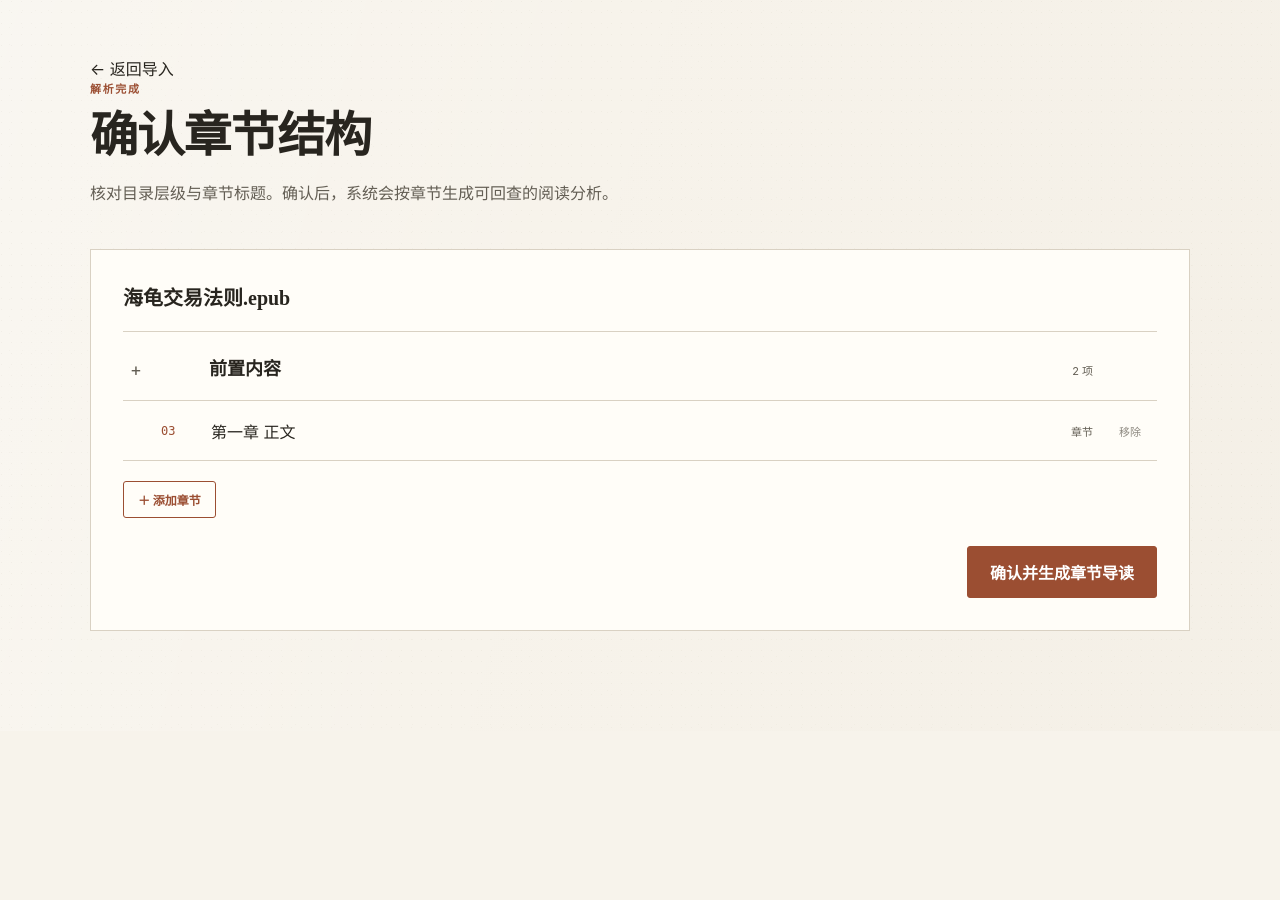
it: ChapterEditor hierarchy › uses the ordinary expandable chapter treatment for front matter and preserves its hierarchy
Click the button named "展开前置内容": (136, 370) [123, 357, 149, 383]
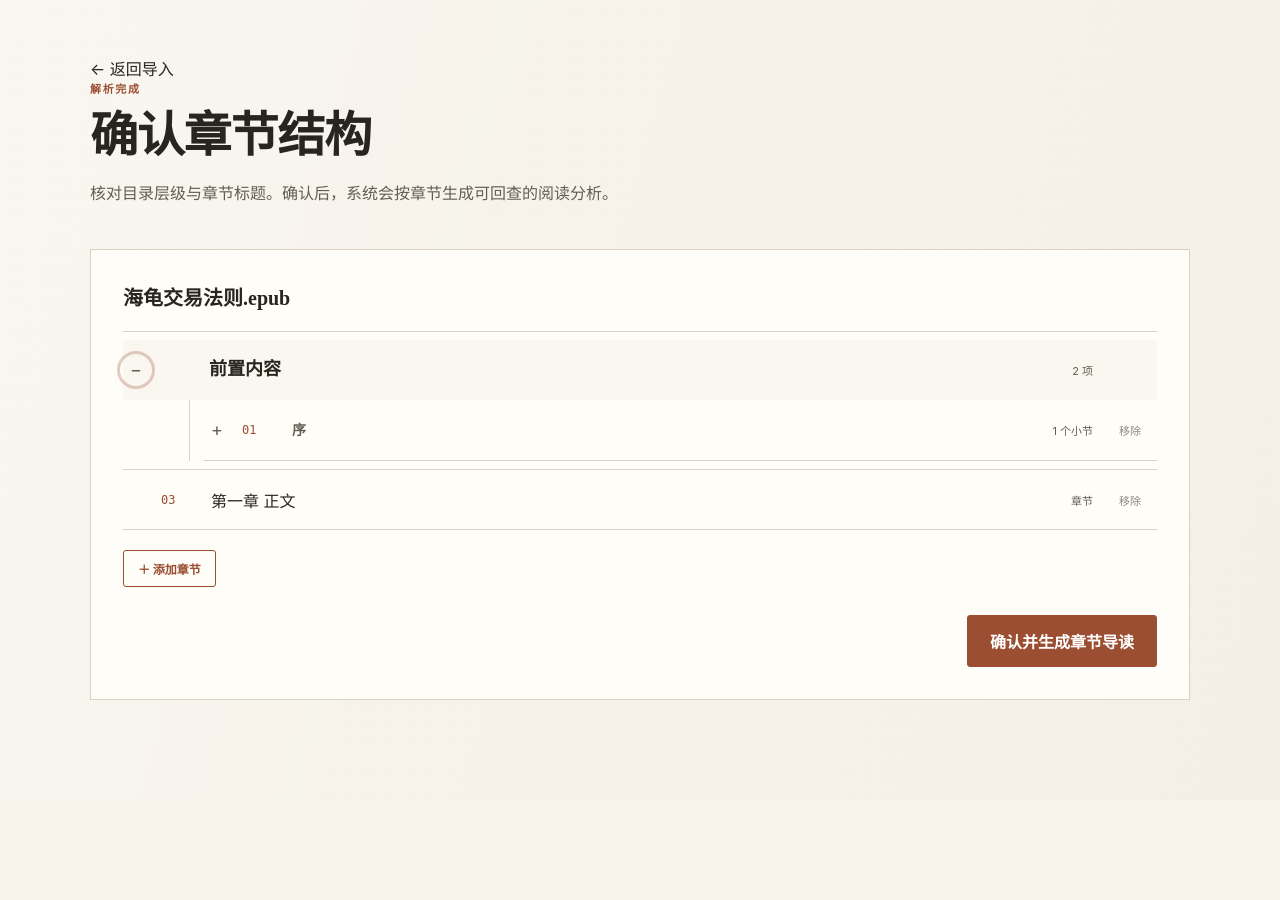
Expected: the field showing "致读者" is not shown
Click the button named "展开「序」的小节": (217, 430) [204, 417, 230, 443]
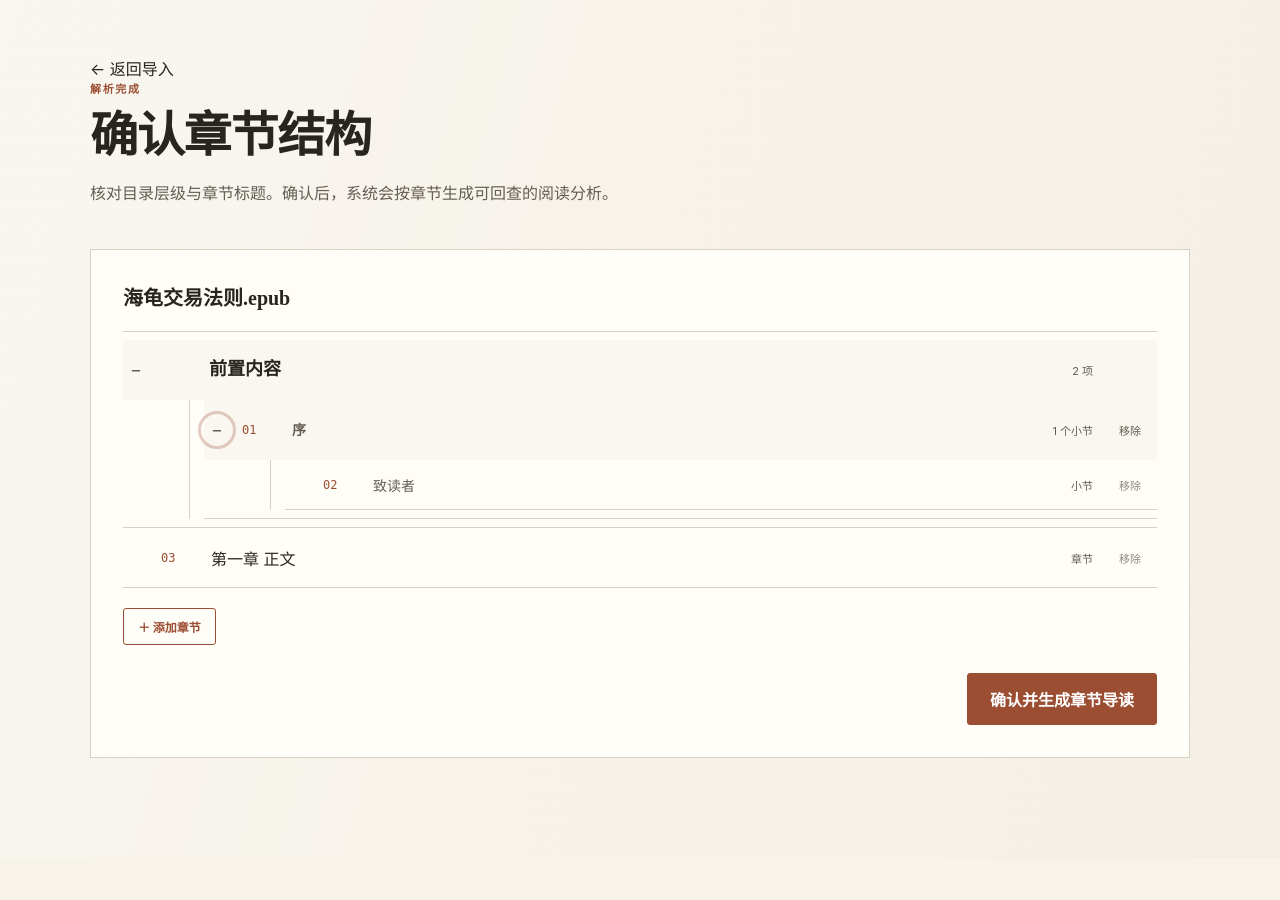
Now the field showing "致读者" next to "02" is shown, box [371, 468, 1001, 500]
